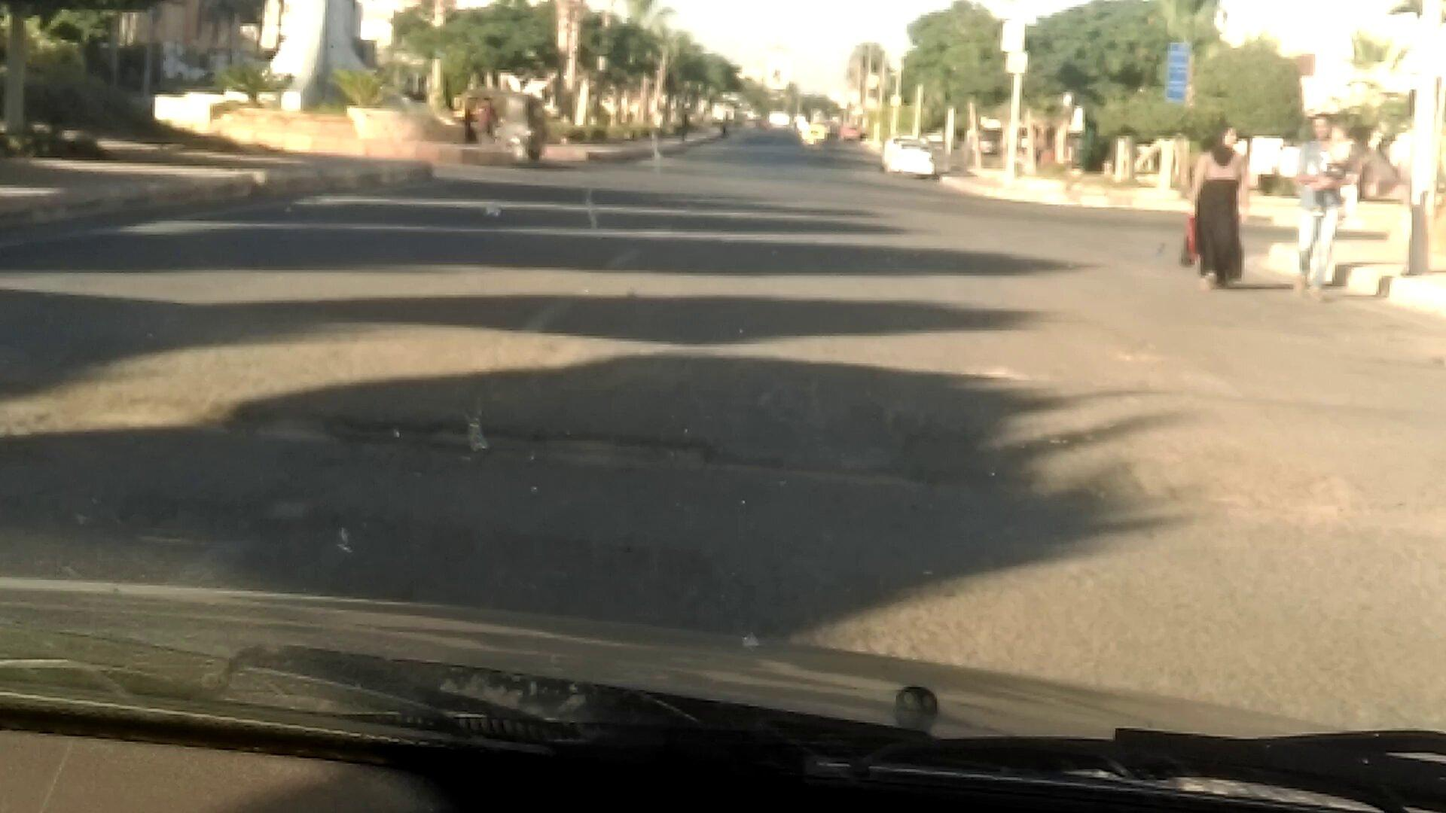Pothole: (271, 388, 985, 516)
